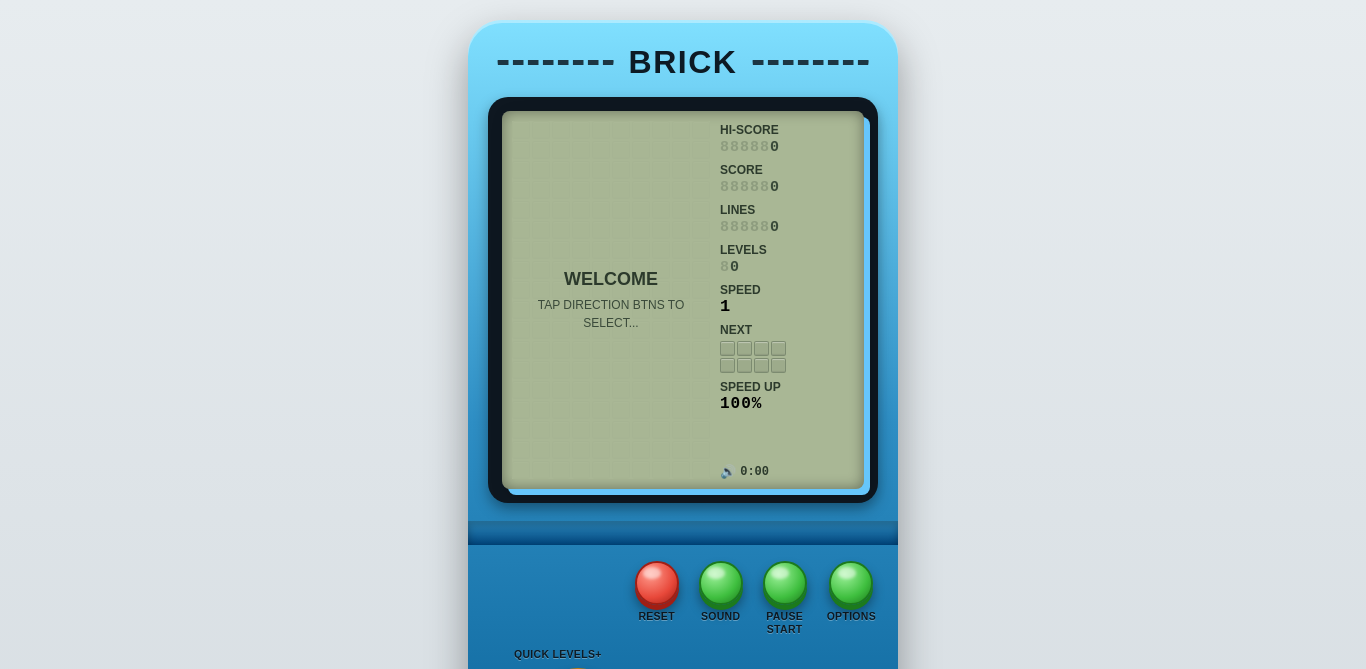
Scenario: BrickGame › starts the game on START and shows the running board
Click the button named "Pause / Start". click: (785,583)
box: [763,561,807,605]
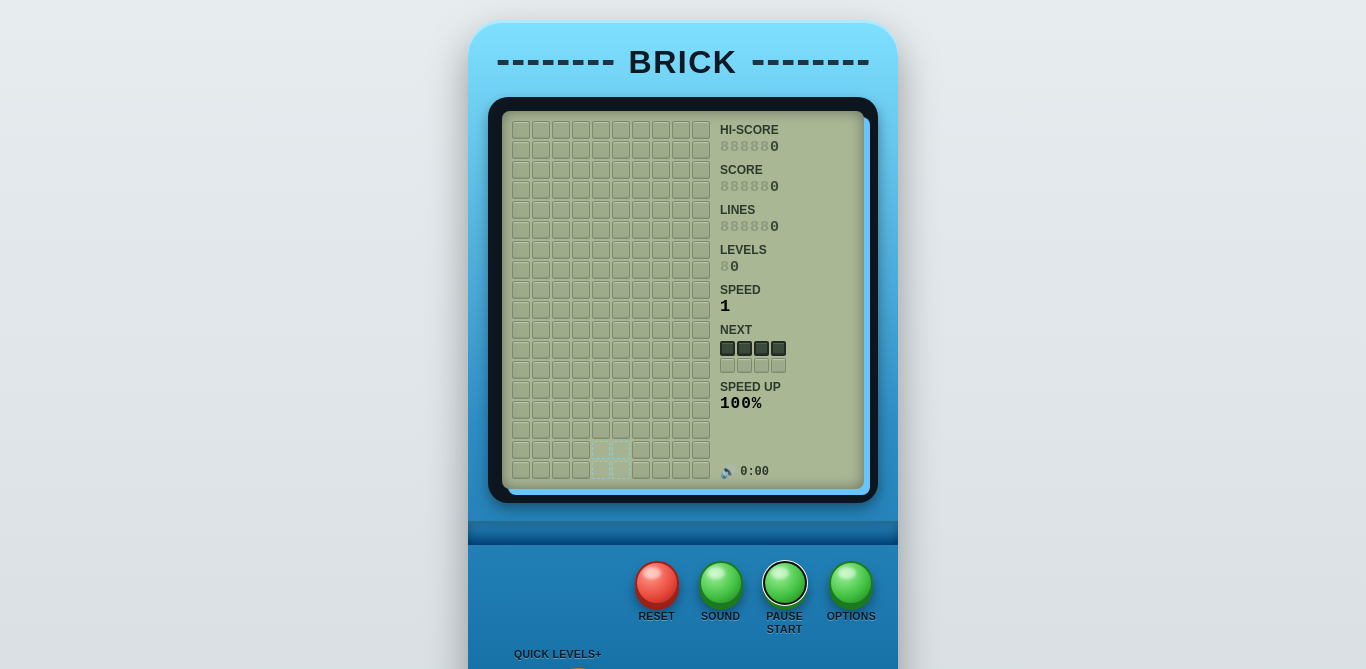
Expected: the text "SCORE" is shown, [720,163,763,177]
Now the text "WELCOME" is gone
